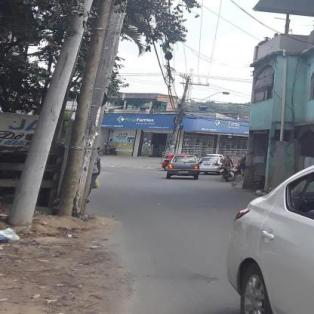Poste: (49, 0, 172, 214)
